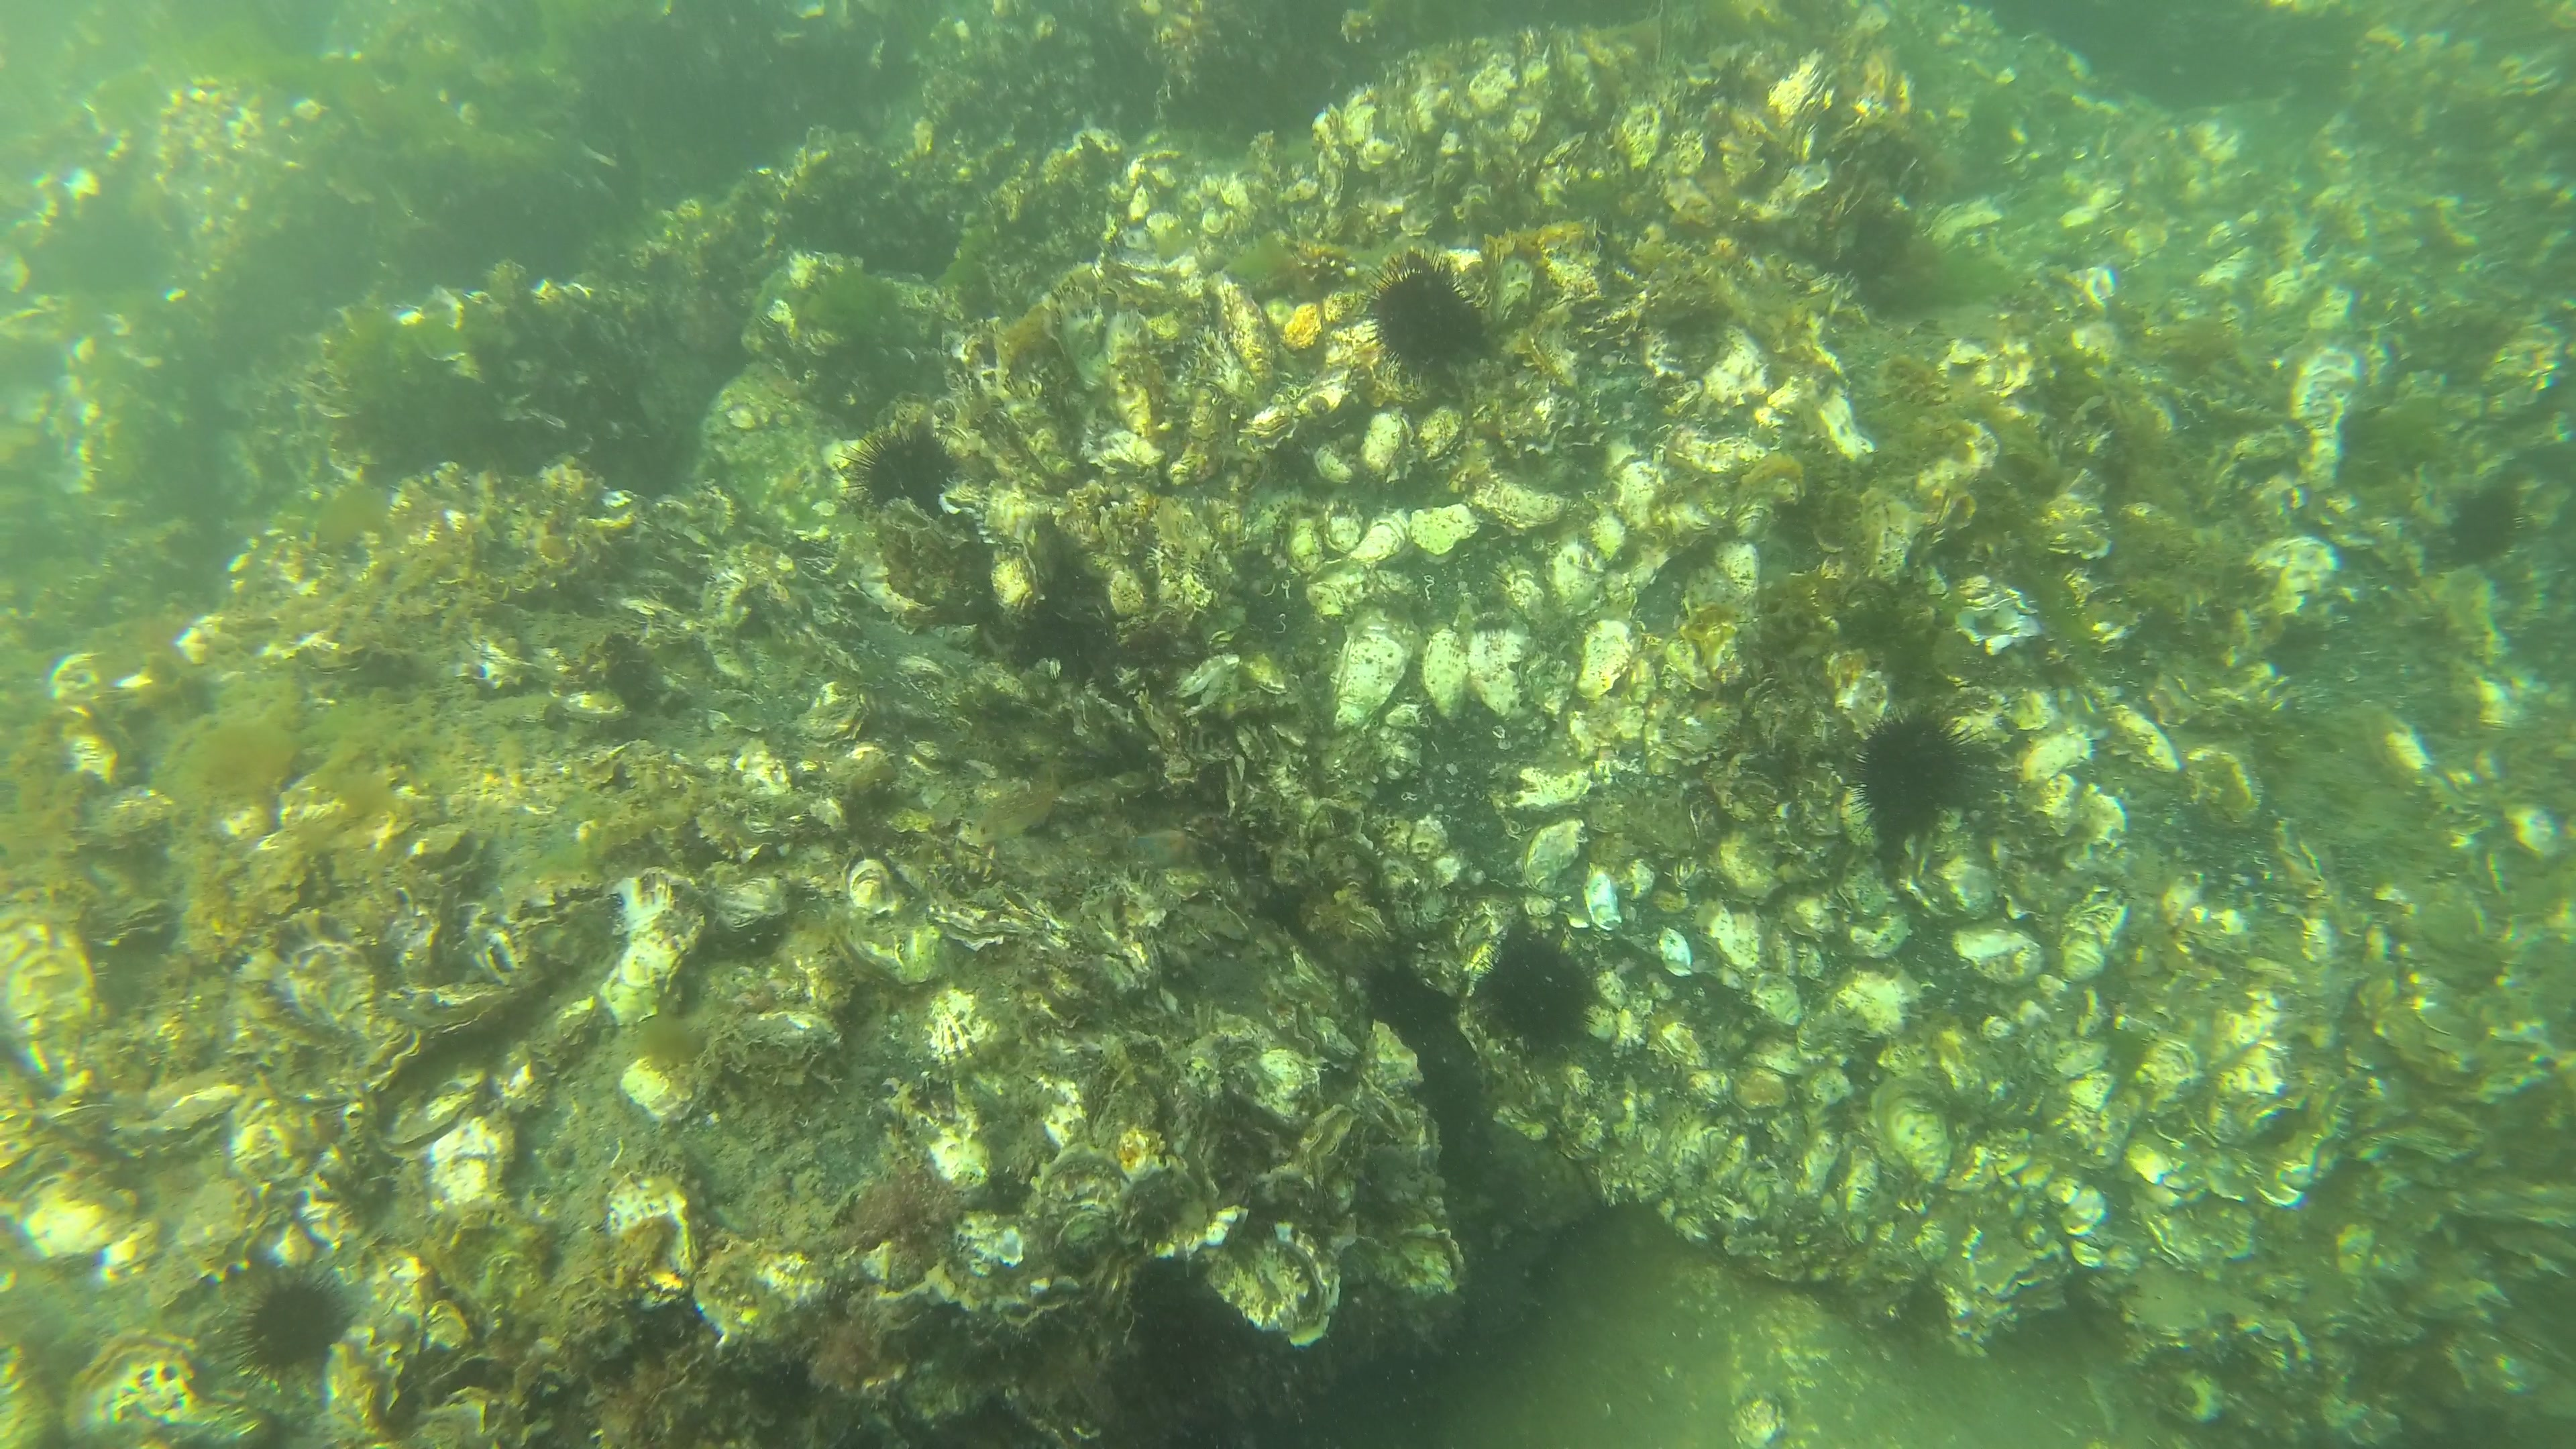echinus: (1852, 709, 1969, 847), (1362, 264, 1493, 382), (1477, 927, 1601, 1051), (234, 1277, 347, 1382), (846, 426, 964, 517), (2454, 481, 2519, 575)
starfish: (1129, 821, 1212, 869)
